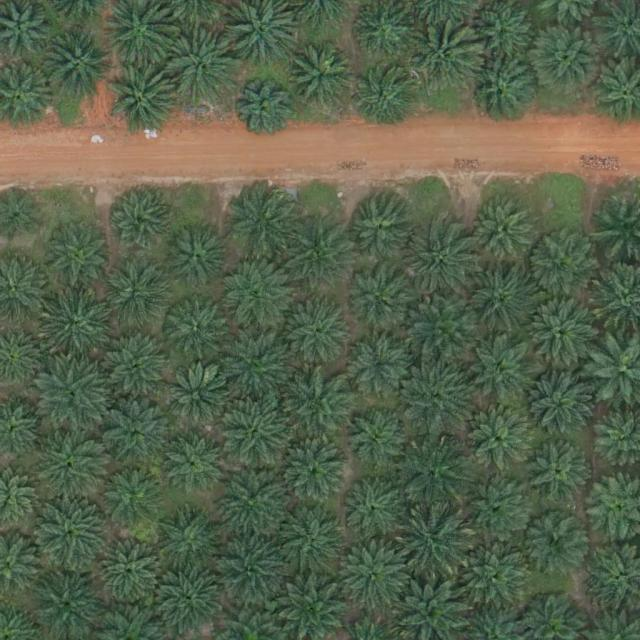Healthy: (409, 295, 480, 366), (345, 262, 416, 333), (34, 430, 105, 501), (37, 495, 108, 566), (166, 35, 237, 106), (41, 30, 112, 101), (527, 295, 598, 365), (520, 507, 590, 578), (456, 544, 527, 614), (467, 404, 537, 475), (469, 336, 539, 407), (406, 225, 476, 296), (397, 360, 467, 431), (344, 194, 414, 265), (279, 222, 349, 293), (279, 298, 350, 368), (277, 437, 347, 508), (275, 510, 345, 581), (225, 190, 295, 261), (220, 264, 291, 334), (217, 530, 287, 601), (157, 560, 227, 631), (103, 395, 173, 466), (41, 221, 111, 292), (37, 364, 108, 434), (467, 55, 537, 126), (287, 45, 357, 116), (109, 66, 179, 137), (527, 230, 597, 300), (524, 373, 594, 443), (523, 440, 593, 510), (463, 474, 533, 544), (463, 267, 533, 337), (401, 438, 471, 508), (340, 542, 410, 612), (289, 368, 359, 438), (222, 333, 292, 403), (223, 398, 293, 468), (219, 462, 289, 532), (166, 365, 236, 435), (153, 513, 223, 583), (41, 293, 111, 363), (534, 27, 604, 97), (408, 23, 478, 93), (469, 201, 532, 264), (349, 339, 412, 402), (167, 304, 230, 367), (341, 474, 403, 537), (345, 411, 408, 473), (168, 223, 230, 286), (163, 434, 225, 497), (100, 467, 162, 530), (106, 334, 168, 397), (353, 69, 415, 132), (100, 541, 162, 603), (102, 263, 164, 325), (109, 190, 171, 252), (236, 84, 290, 139)
Yellow: (402, 509, 472, 579)
